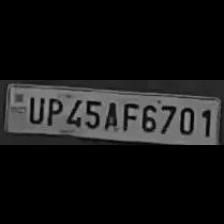0: (175, 103, 195, 135)
1: (196, 104, 214, 136)
4: (63, 94, 81, 126)
5: (80, 96, 102, 128)
6: (137, 99, 157, 131)
7: (157, 100, 175, 134)
A: (102, 97, 118, 129)
F: (119, 98, 137, 130)
P: (42, 93, 62, 125)
U: (24, 92, 44, 124)
